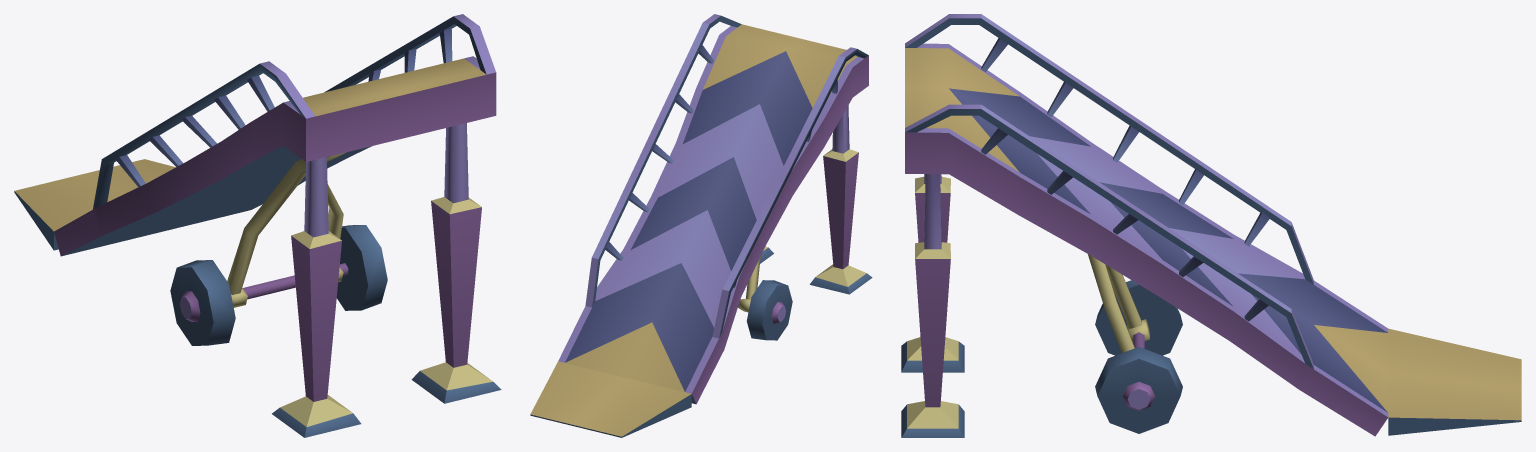
File: obstacle-steel_ramp.glb
3 renders of one model, left to right at view 1: azimuth 30°, elevation 25°; view 2: azimuth 150°, elevation 25°; view 3: azimuth 270°, elevation 25°, orthographic. The views are drawn at different scales.
Visible parts, largest first — view 1: obstacle-steel_ramp; view 2: obstacle-steel_ramp; view 3: obstacle-steel_ramp.
Boxes of the visible parts, x1,y1,x2,y2 form: obstacle-steel_ramp: (14,14,501,437); obstacle-steel_ramp: (530,14,872,437); obstacle-steel_ramp: (901,14,1521,437).
Size of the model in its own units: 2.93 by 4.79 by 8.07.
